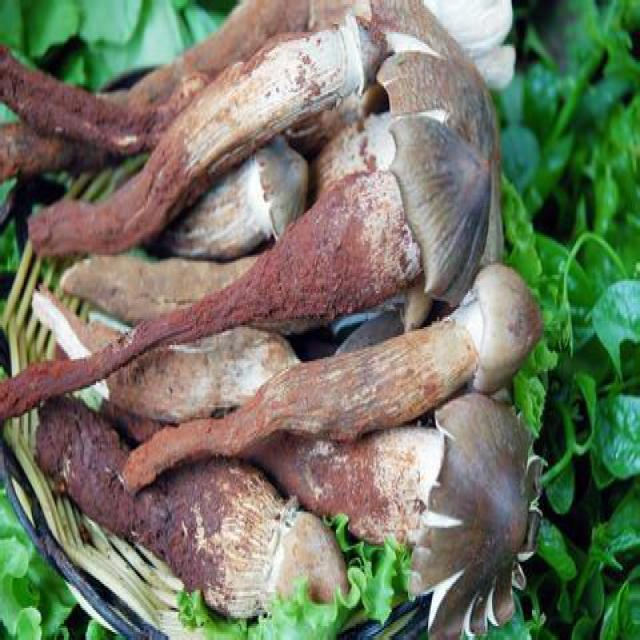Collybia albuminosa: (21, 294, 546, 634), (0, 115, 492, 385), (0, 21, 383, 251), (151, 139, 309, 250)
